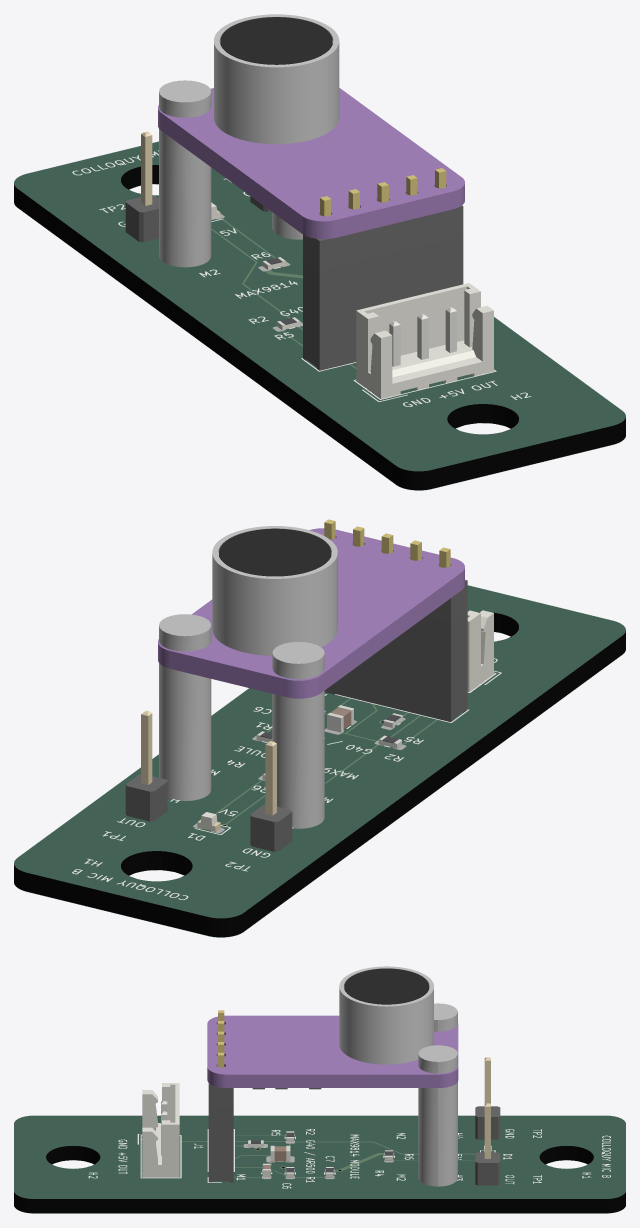
Rendered from microphone.glb.
3 views of the same model, one above another, from view 1: azimuth 30°, elevation 25°; view 2: azimuth 150°, elevation 25°; view 3: azimuth 270°, elevation 25° (orthographic). The views are drawn at different scales.
Parts seen in each view (by area): view 1: microphone_visual_layers_1, microphone_visual_layers_4, M1.001, J1, M1, H4, TP2, microphone_visual_layers_7; view 2: microphone_visual_layers_1, microphone_visual_layers_4, M1.001, M1, H3, H4, TP1, TP2, J1, microphone_visual_layers_7, microphone_visual_layers_6, C7; view 3: microphone_visual_layers_1, microphone_visual_layers_4, M1.001, H3, J1, microphone_visual_layers_7, M1, TP1, TP2, H4, microphone_visual_layers_6.
Part boxes in pixels (x1,y1,x2,y2): microphone_visual_layers_1: [14, 142, 625, 490]; microphone_visual_layers_4: [14, 141, 625, 471]; M1.001: [158, 14, 464, 270]; J1: [356, 283, 493, 398]; M1: [303, 236, 463, 370]; H4: [159, 80, 211, 267]; TP2: [125, 131, 158, 242]; microphone_visual_layers_7: [72, 150, 531, 406]; microphone_visual_layers_1: [14, 586, 625, 937]; microphone_visual_layers_4: [14, 585, 625, 918]; M1.001: [158, 519, 467, 698]; M1: [324, 610, 467, 721]; H3: [159, 614, 211, 800]; H4: [272, 642, 324, 828]; TP1: [125, 710, 167, 821]; TP2: [250, 741, 292, 851]; J1: [467, 610, 493, 691]; microphone_visual_layers_7: [72, 658, 501, 899]; microphone_visual_layers_6: [15, 632, 625, 937]; C7: [327, 705, 353, 732]; microphone_visual_layers_1: [14, 1116, 625, 1213]; microphone_visual_layers_4: [14, 1115, 625, 1198]; M1.001: [207, 966, 458, 1106]; H3: [418, 1045, 457, 1186]; J1: [142, 1083, 179, 1177]; microphone_visual_layers_7: [88, 1129, 610, 1188]; M1: [208, 1107, 233, 1182]; TP1: [475, 1103, 500, 1185]; TP2: [475, 1057, 500, 1139]; H4: [434, 1003, 457, 1031]; microphone_visual_layers_6: [15, 1160, 624, 1213].
Size of the model in its own units: 0.02 by 0.0223 by 0.062.
